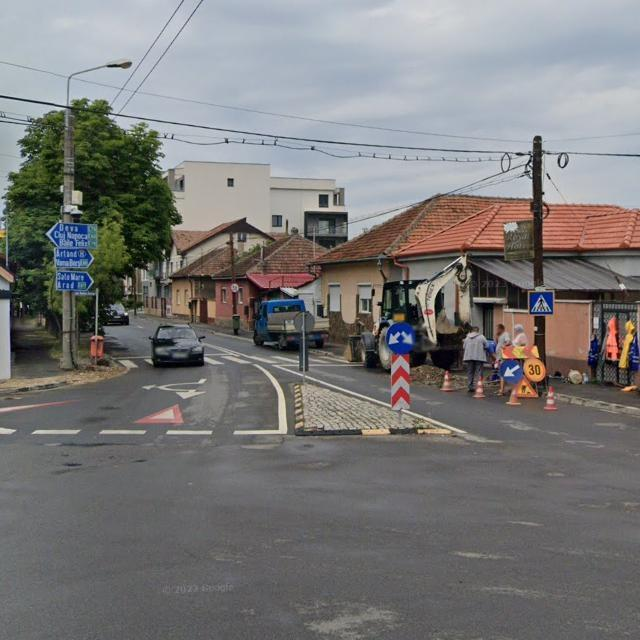forb_speed_over_30: (523, 358, 546, 383)
info_crosswalk: (529, 289, 555, 315)
prio_give_way: (133, 403, 185, 424)
